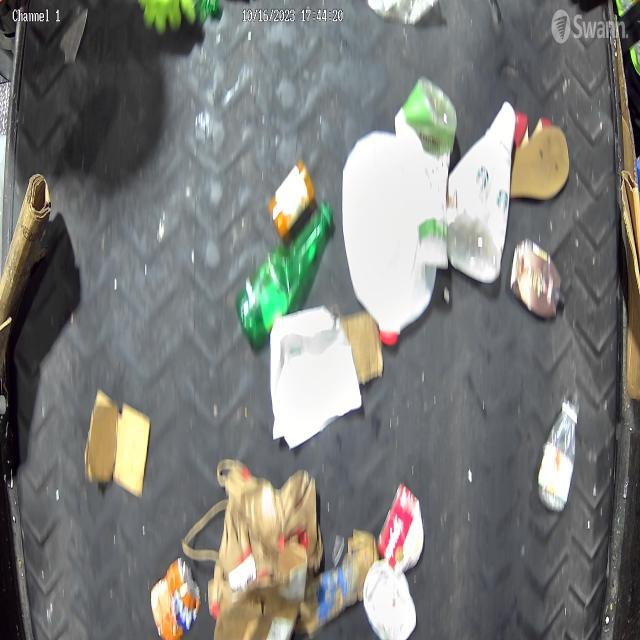can: (375, 477, 432, 575), (392, 79, 456, 162), (148, 551, 202, 640), (266, 162, 316, 240)
milk_jug: (343, 129, 443, 348), (446, 100, 514, 286)
plastic_bottle: (236, 197, 334, 340), (537, 394, 580, 520)
